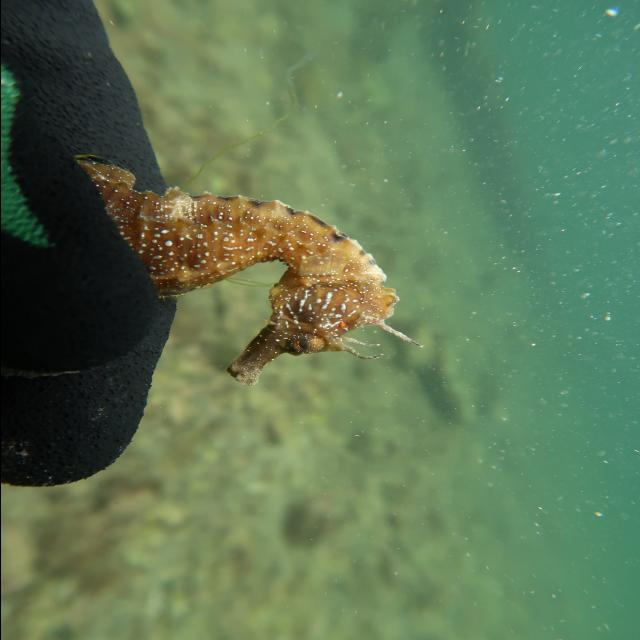Guttu: (220, 270, 404, 394)
